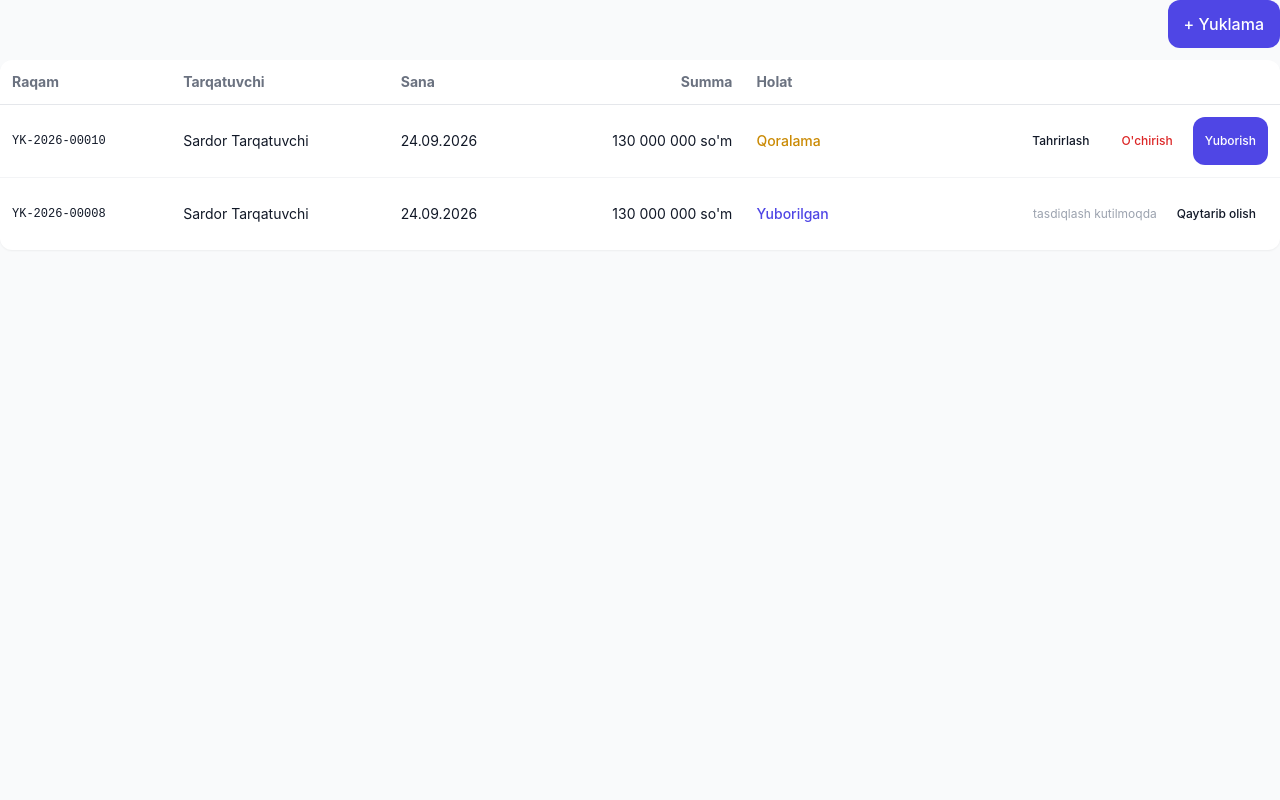
Scenario: LoadingsTab — qoralama va yuborilgan yuklama amallari › qatorda ombordagi qoldiq ko‘rinadi va undan oshsa ogohlantiradi
This screenshot has width=1280, height=800.
Expected: the text "YK-2026-00010" is shown, [0,104,171,178]
Click the button "Tahrirlash" at x=1061, y=141, box [1020,117,1101,165]
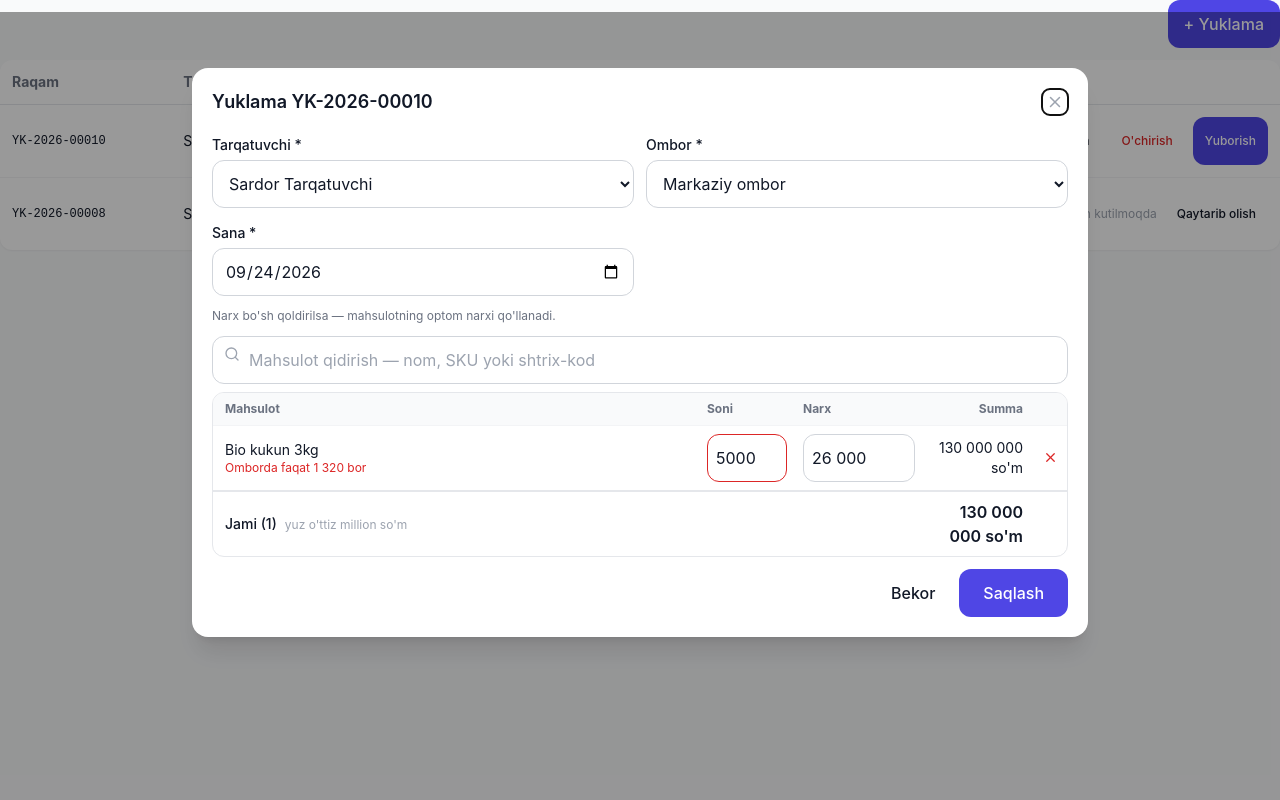
Now the text "Omborda faqat 1 320 bor" is shown, box [225,460,366,475]
